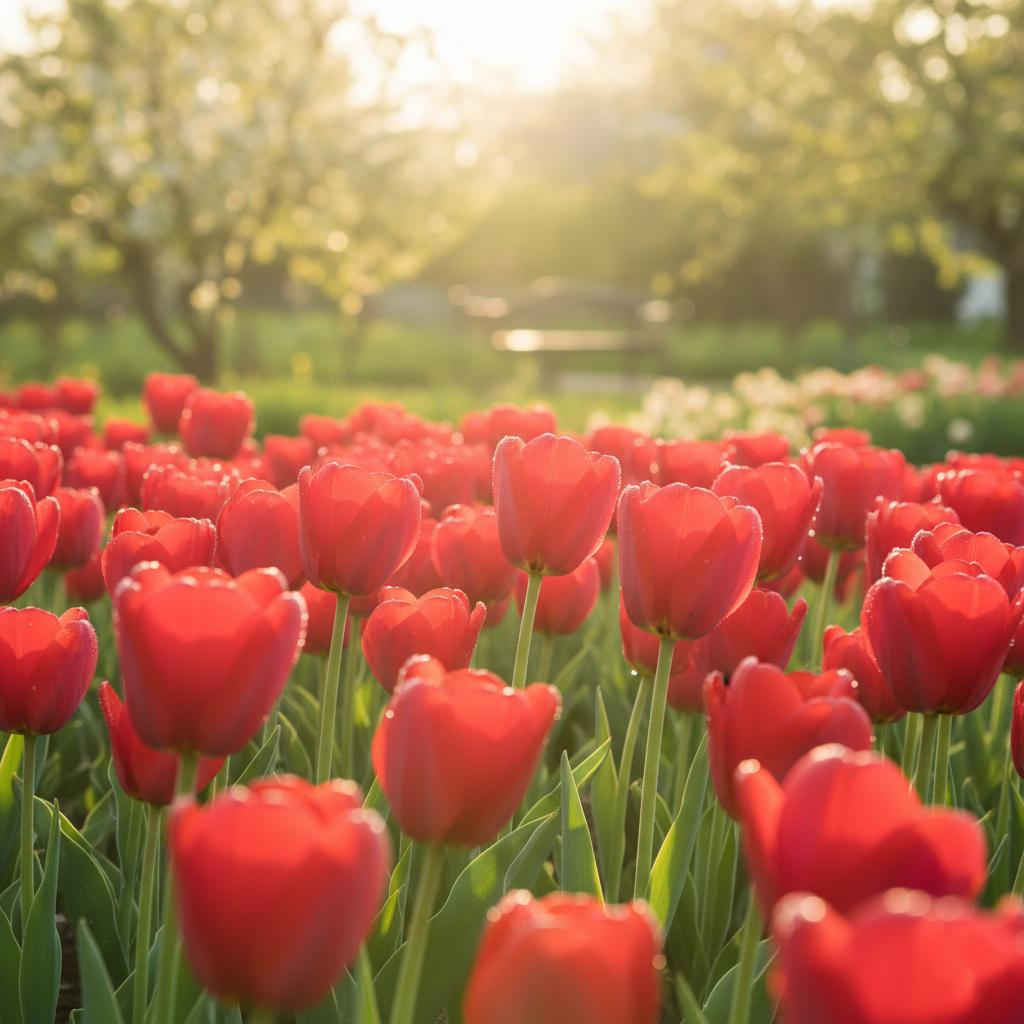tulip: (0, 371, 1023, 1021)
